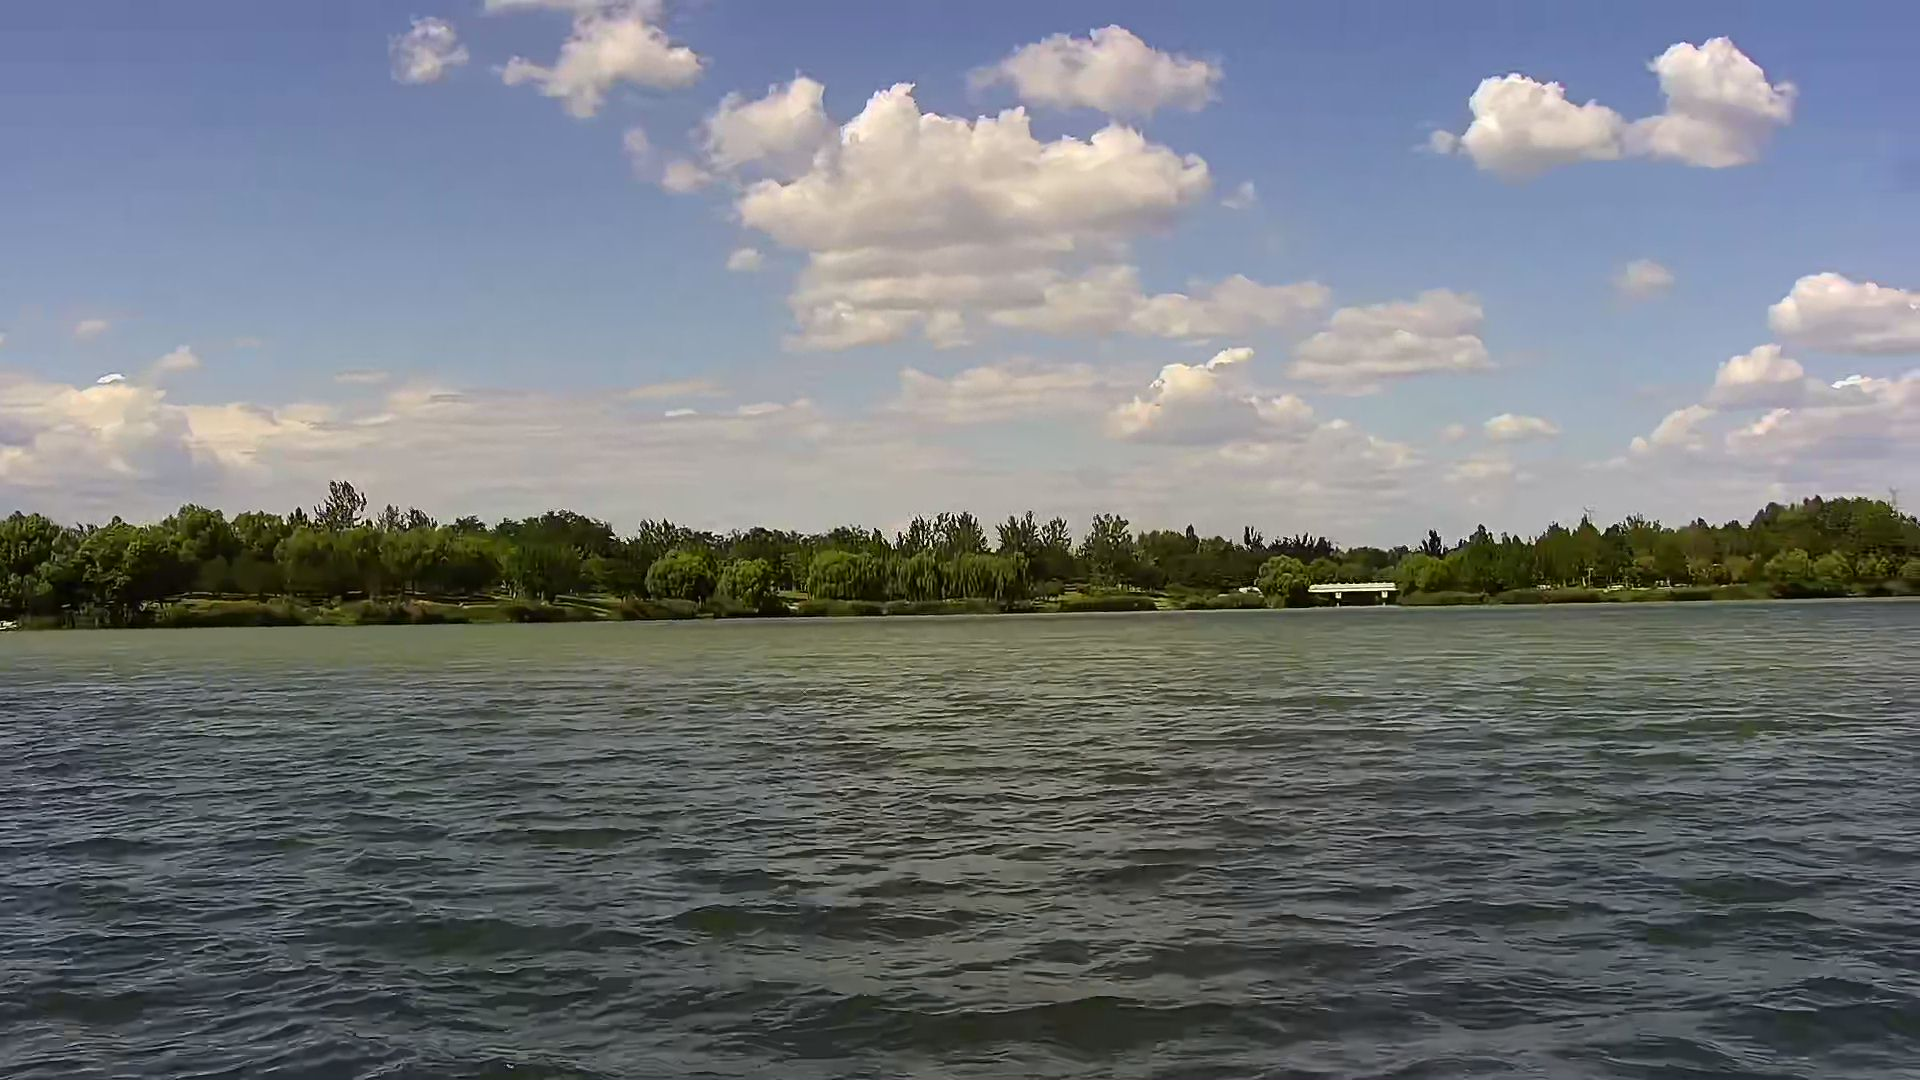bridge: (1308, 575, 1404, 613)
